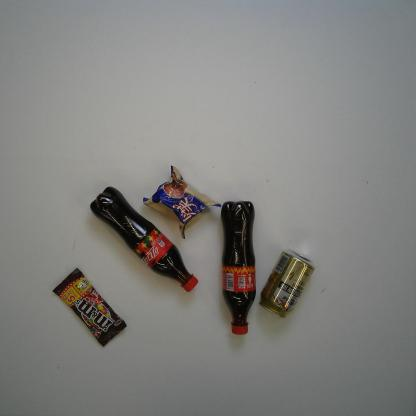Alcohol: (258, 248, 316, 320)
Chocolate: (51, 267, 128, 348)
Dessert: (142, 165, 223, 240)
Drink: (90, 185, 200, 294), (220, 200, 257, 336)
